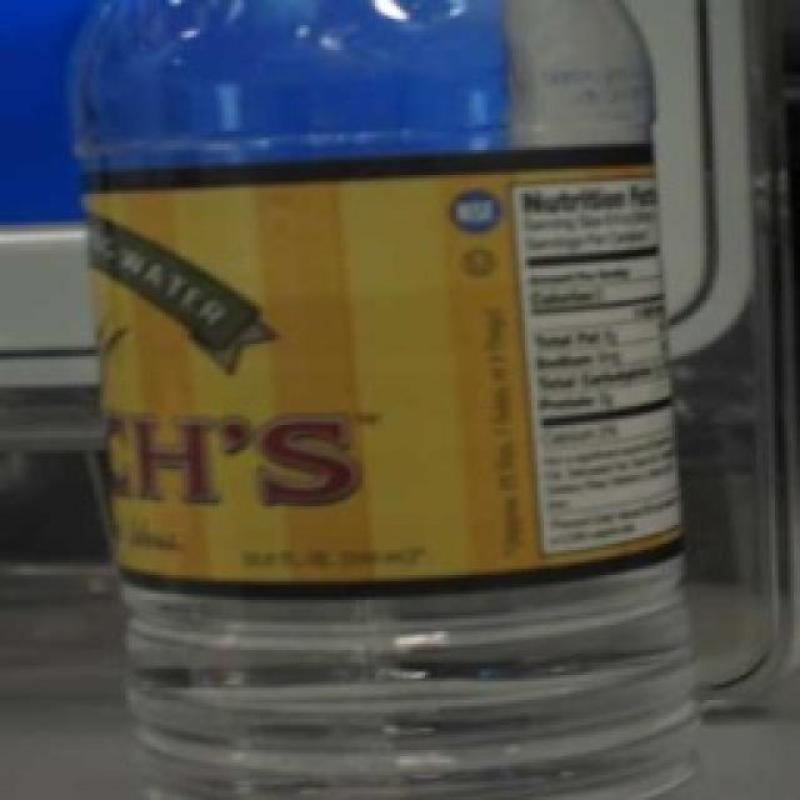botella: (73, 0, 696, 800)
